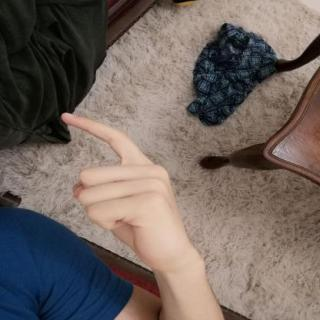RAA: (52, 107, 200, 271)
